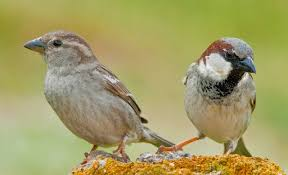hsparrow: (21, 26, 180, 169), (175, 32, 260, 160)
